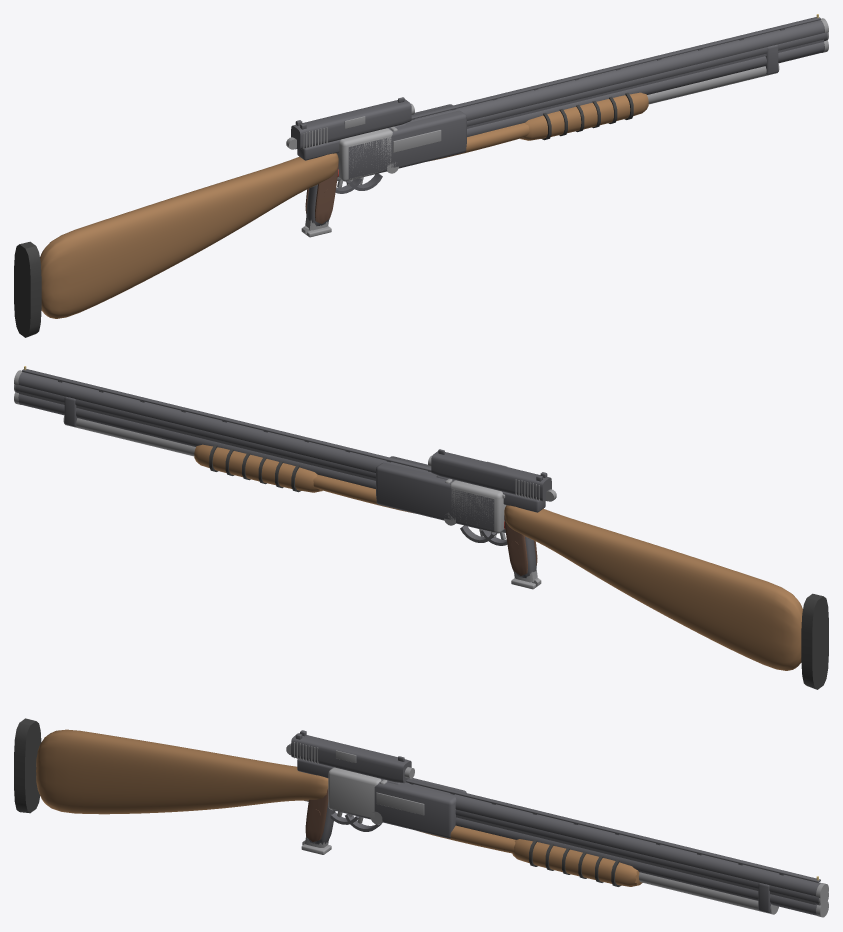
File: bron.glb
The picture shows the model from 3 angles, top to bottom: view 1: azimuth 30°, elevation 25°; view 2: azimuth 150°, elevation 25°; view 3: azimuth 330°, elevation 25°; orthographic projection.
Visible parts, largest first — view 1: strzelba, dwururka__lufy, pistolet__zamek, strzelba__czolenko, pistolet, dwururka; view 2: strzelba, dwururka__lufy, pistolet__zamek, strzelba__czolenko, pistolet, dwururka; view 3: strzelba, dwururka__lufy, strzelba__czolenko, pistolet__zamek, dwururka, pistolet.
Boxes of the visible parts, x1,y1,x2,y2 form: strzelba: (14,32,828,337); dwururka__lufy: (390,14,828,161); pistolet__zamek: (291,97,411,149); strzelba__czolenko: (520,92,648,140); pistolet: (286,103,414,237); dwururka: (335,128,398,193); strzelba: (14,384,828,689); dwururka__lufy: (14,366,452,513); pistolet__zamek: (431,449,551,501); strzelba__czolenko: (194,444,322,492); pistolet: (428,455,556,589); dwururka: (444,480,507,545); strzelba: (14,718,828,914); dwururka__lufy: (380,779,828,917); strzelba__czolenko: (512,839,642,886); pistolet__zamek: (291,730,411,783); dwururka: (328,767,382,824); pistolet: (286,743,414,854).
Bounding box in the file's own units: 1.17 × 0.2027 × 0.05.
